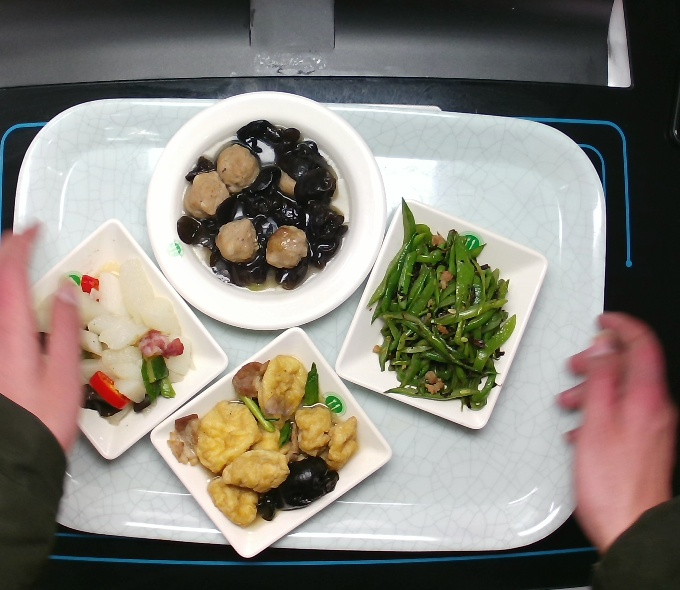wcq-MuErWanZi: (169, 114, 357, 297)
wcq-ShanYao: (23, 251, 199, 436)
wcq-SiJiDouChaoRou: (362, 193, 520, 417)
wcq-YouPaoRouPian: (164, 352, 362, 531)
